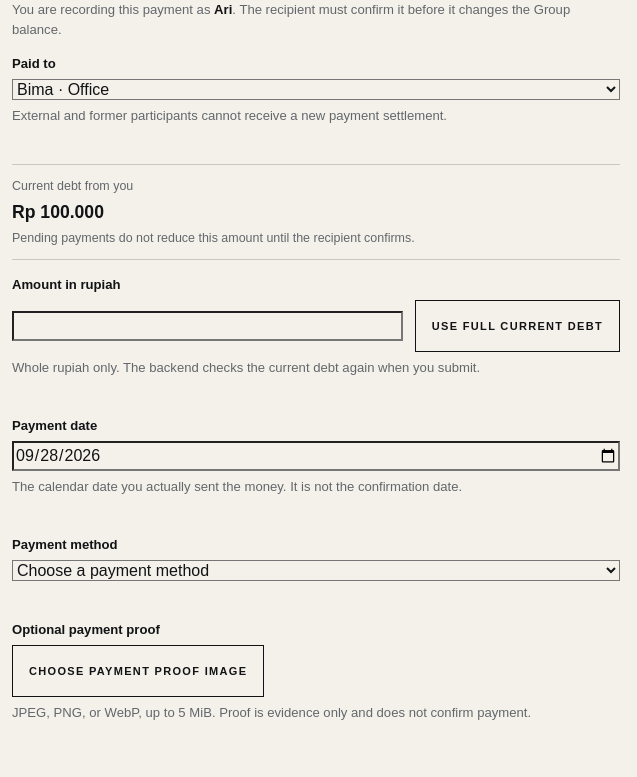
GroupSettlementForm › blocks an amount above current debt before submitting
In the field labelled "Amount in rupiah": coordinates (207, 326) left=12, top=311, right=403, bottom=341, type "100001"
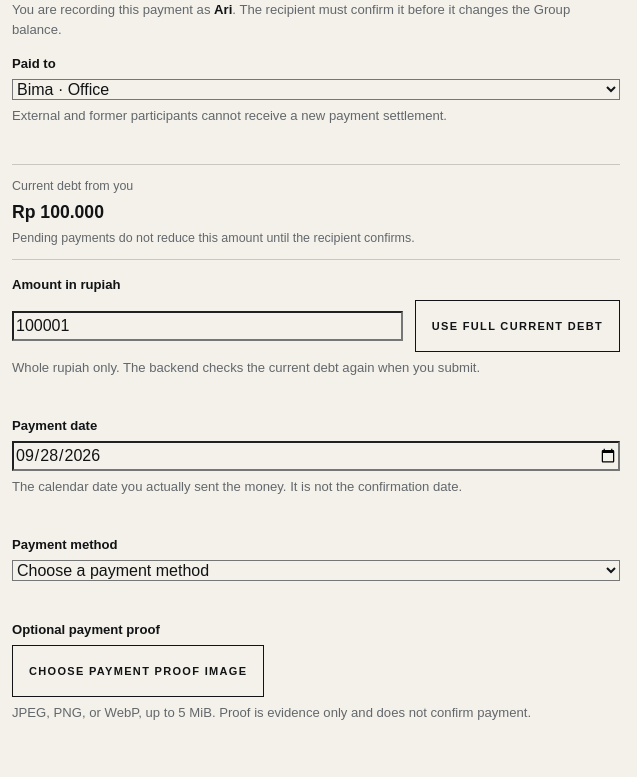
Select "Cash" in the dropdown labelled "Payment method": coordinates (316, 571) left=12, top=560, right=620, bottom=581
(page scrolled)
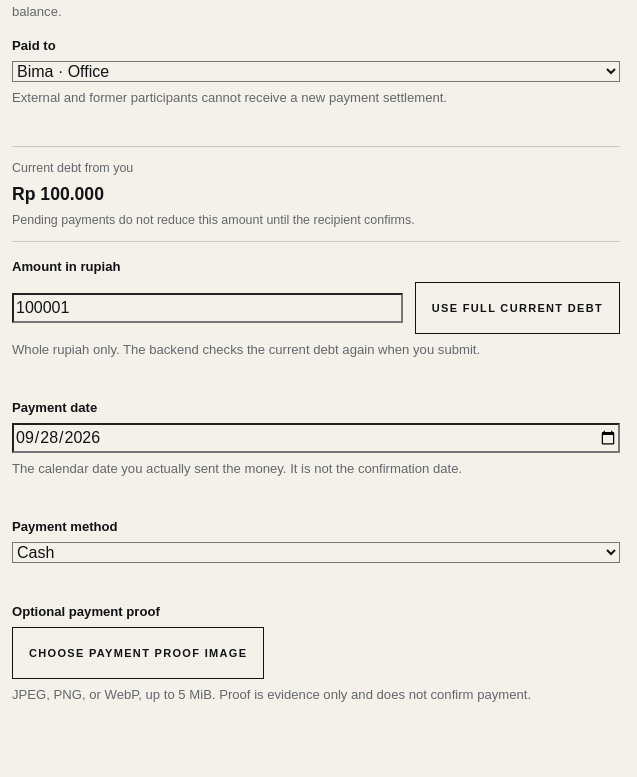
Submit the form named "Record payment"
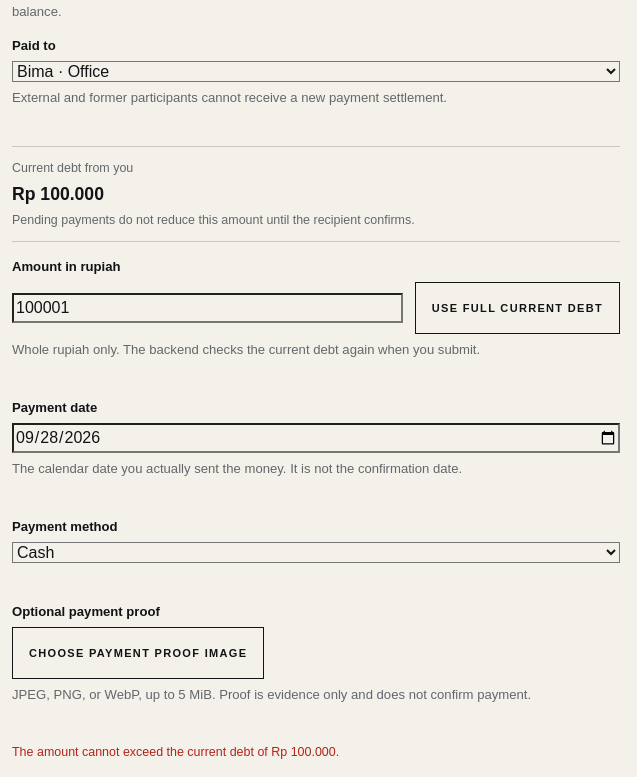
Expected: the message shows "cannot exceed", left=12, top=745, right=339, bottom=759
